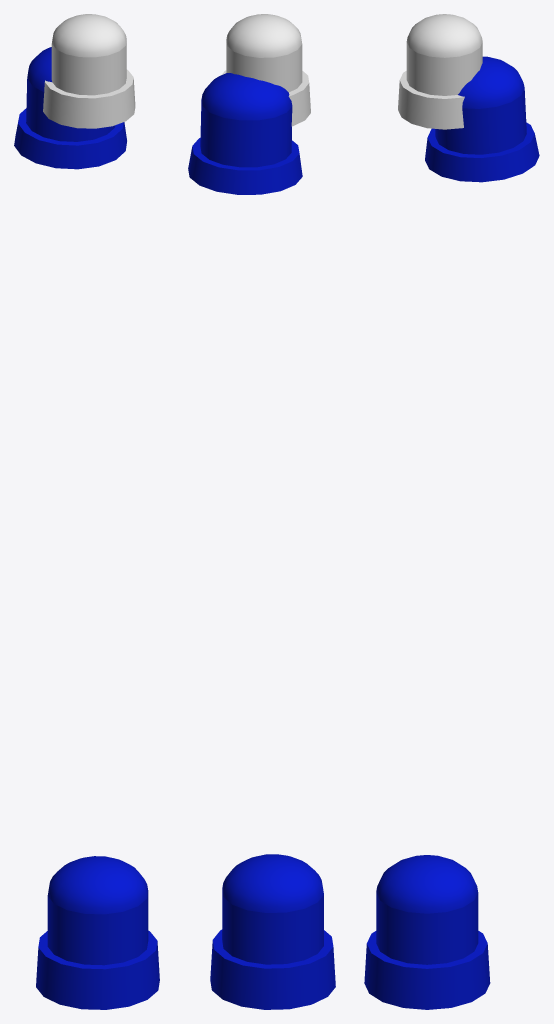
File: beaconlight.dae
The picture shows the model from 3 angles, left to right: view 1: azimuth 30°, elevation 25°; view 2: azimuth 150°, elevation 25°; view 3: azimuth 270°, elevation 25°; orthographic projection.
Parts seen in each view (by area): view 1: beaconlight_red, pigeon_beaconlight_orange, sunburst_beaconlight_blue; view 2: beaconlight_red, sunburst_beaconlight_blue, pigeon_beaconlight_orange; view 3: beaconlight_red, sunburst_beaconlight_blue, pigeon_beaconlight_orange.
Boxes of the visible parts, bbox=[...] form: beaconlight_red: bbox=[36, 856, 159, 1009]; pigeon_beaconlight_orange: bbox=[43, 14, 135, 128]; sunburst_beaconlight_blue: bbox=[14, 47, 126, 169]; beaconlight_red: bbox=[210, 854, 335, 1009]; sunburst_beaconlight_blue: bbox=[188, 73, 302, 194]; pigeon_beaconlight_orange: bbox=[222, 14, 310, 126]; beaconlight_red: bbox=[364, 855, 490, 1009]; sunburst_beaconlight_blue: bbox=[425, 56, 539, 182]; pigeon_beaconlight_orange: bbox=[398, 14, 482, 129].
Size of the model in its own units: 0.1852 by 0.2578 by 1.57.
